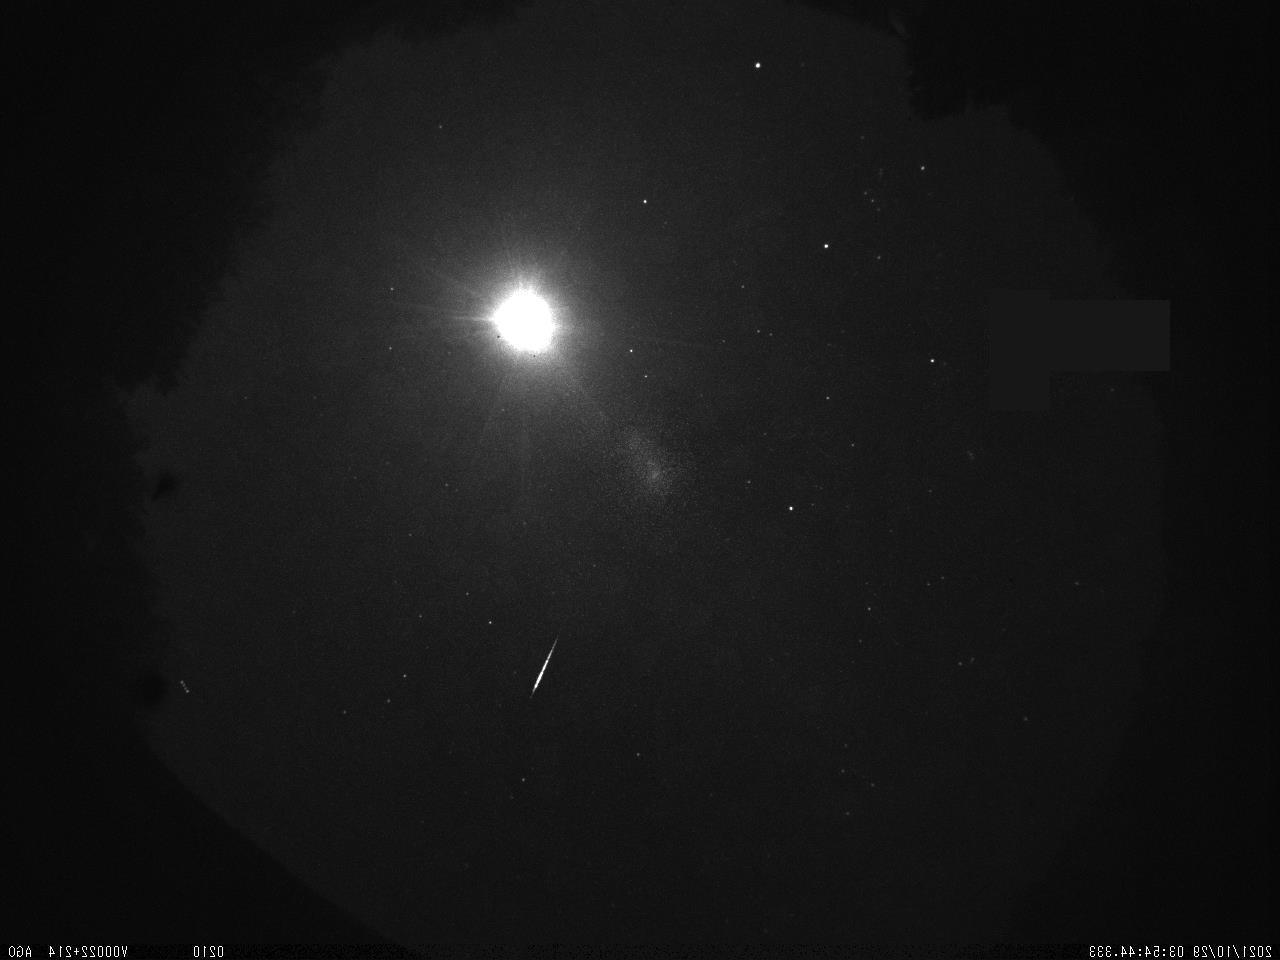meteor: (517, 625, 572, 707)
